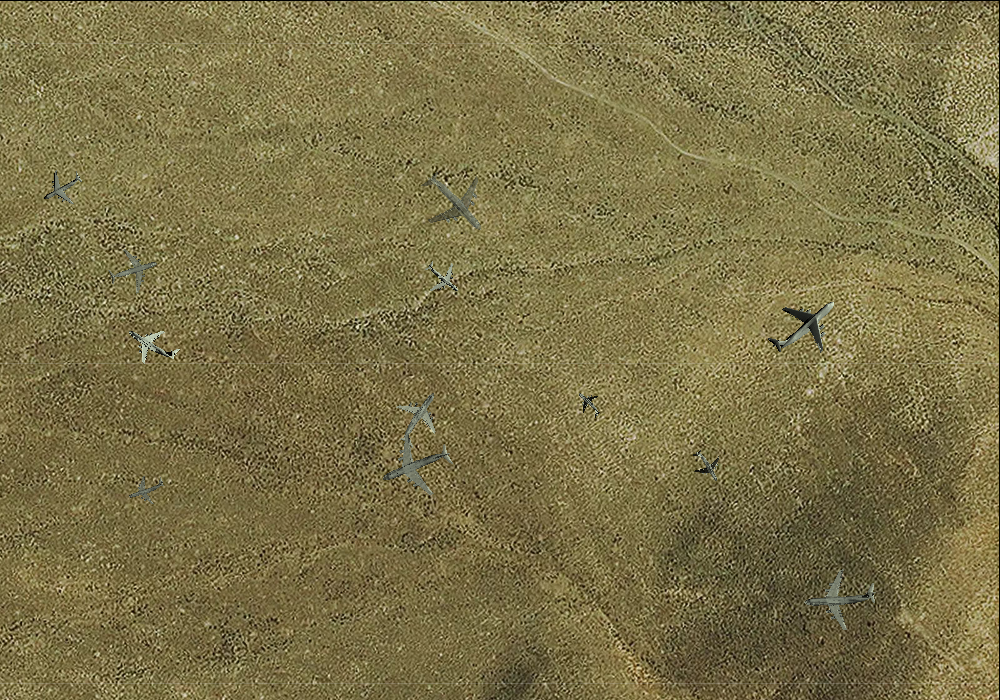plane: (403, 151, 505, 254), (752, 274, 854, 376), (370, 420, 462, 511), (380, 379, 458, 458), (802, 562, 878, 634), (117, 309, 187, 378), (102, 241, 163, 299), (32, 159, 90, 215), (415, 250, 470, 304), (683, 442, 730, 490), (122, 467, 169, 511), (568, 384, 608, 424)
